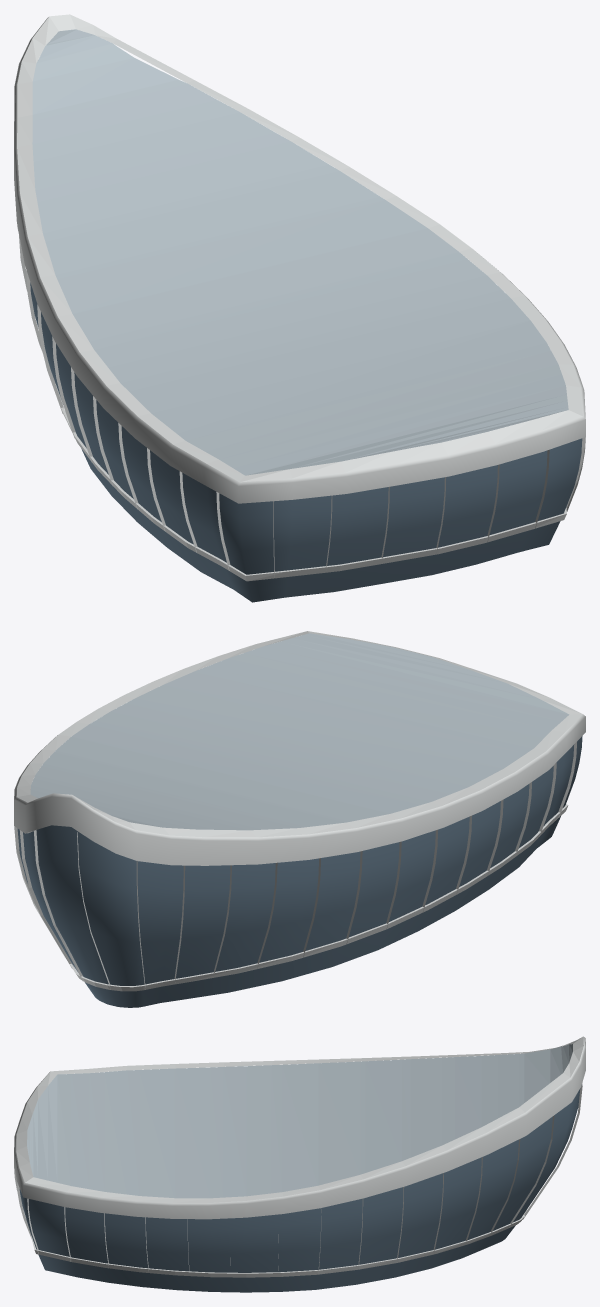
Rendered from dubai-opera.glb.
The picture shows the model from 3 angles, top to bottom: view 1: azimuth 30°, elevation 25°; view 2: azimuth 150°, elevation 25°; view 3: azimuth 270°, elevation 25°; orthographic projection. The views are drawn at different scales.
Parts seen in each view (by area): view 1: Dubai Opera; view 2: Dubai Opera; view 3: Dubai Opera.
Boxes of the visible parts, x1,y1,x2,y2 form: Dubai Opera: [14, 14, 585, 602]; Dubai Opera: [14, 631, 585, 1007]; Dubai Opera: [14, 1036, 585, 1292].
Bounding box in the file's own units: 78.42 × 49.45 × 132.
